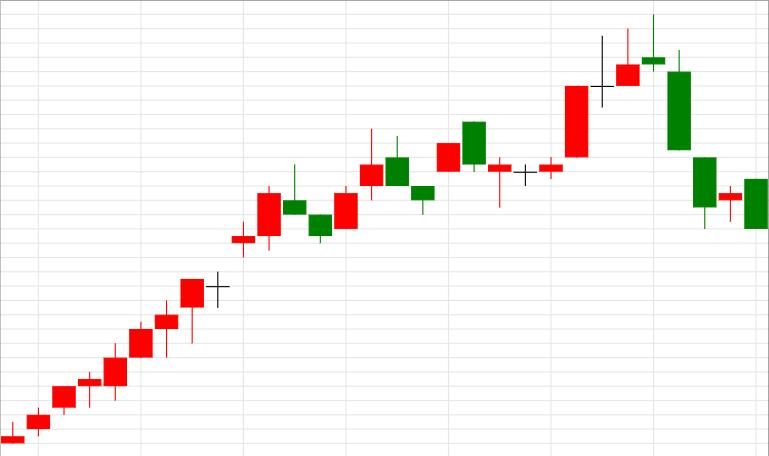evening_star_fall: (488, 15, 691, 209)
